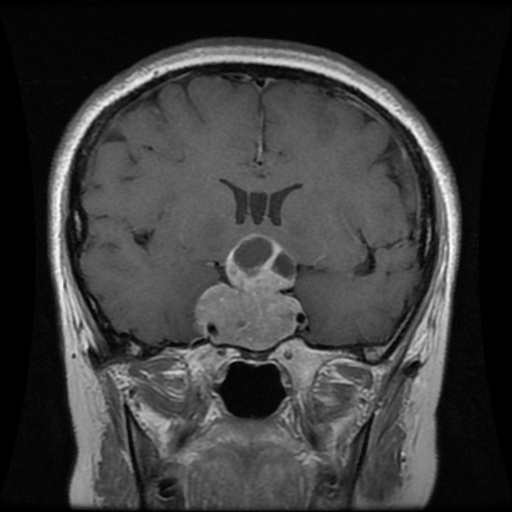pituitary: (194, 234, 300, 348)
